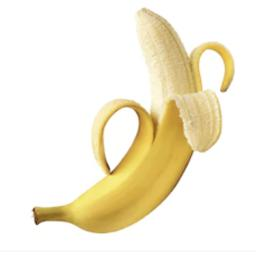Banana Ripe: (33, 8, 232, 232)
